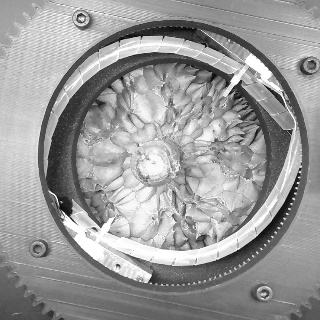base: (151, 135, 185, 165)
end: (135, 152, 170, 183)
